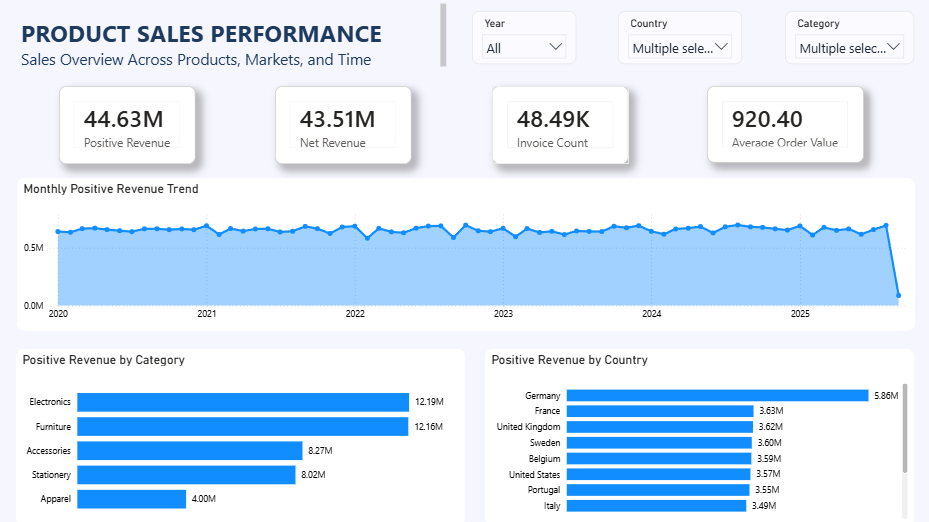

The dashboard page shown, as its layout file describes it:
{"tool":"powerbi","page":{"name":"Product Sales Performance","canvas":[1280,720],"ordinal":0},"visuals":[{"type":"cardVisual","fields":{"Data":["FactSales.Total Revenue"]},"box":[380.2,118.1,187.2,106.6],"z":0},{"type":"cardVisual","title":"Positive Revenue","fields":{"Data":["FactSales.Positive Revenue"]},"box":[85,118.1,187.2,106.6],"z":1000},{"type":"cardVisual","fields":{"Data":["FactSales.Average Order Value"]},"box":[972,118.1,214.6,105.1],"z":2000},{"type":"cardVisual","fields":{"Data":["FactSales.Invoice Count"]},"box":[678.2,118.1,187.2,106.6],"z":3000},{"type":"lineChart","title":"Monthly Positive Revenue Trend","fields":{"Y":["FactSales.Positive Revenue"],"Category":["DimDate.Date.Variation.Date Hierarchy.Year","DimDate.Date.Variation.Date Hierarchy.Quarter","DimDate.Date.Variation.Date Hierarchy.Month"]},"box":[27.4,243.4,1229.8,208.8],"z":4000},{"type":"clusteredBarChart","title":"Positive Revenue by Category","fields":{"Y":["FactSales.Positive Revenue"],"Category":["DimProduct.category"]},"box":[26.7,478.3,615,241.7],"z":5000},{"type":"clusteredBarChart","title":"Positive Revenue by Country","fields":{"Y":["FactSales.Positive Revenue"],"Category":["DimCustomer.country"]},"box":[668.3,478.3,588.3,241.7],"z":6000},{"type":"textbox","box":[27.4,0,593.3,105.1],"z":7000},{"type":"slicer","fields":{"Values":["DimDate.Year"]},"box":[651.2,14.6,143.3,73.3],"z":8000},{"type":"slicer","fields":{"Values":["DimCustomer.country"]},"box":[851,14.4,169.8,73.2],"z":9000},{"type":"slicer","fields":{"Values":["DimCustomer.category"]},"box":[1080,14.4,177.1,73.4],"z":10000}]}

Visuals, with their boxes in screenshot pixels (x1, y1, x2, y2), scaled from the page's 1280x720 canvas onto the 929x522 screenshot:
cardVisual - FactSales.Total Revenue: 276 86 412 163
"Positive Revenue" cardVisual: 62 86 198 163
cardVisual - FactSales.Average Order Value: 705 86 861 162
cardVisual - FactSales.Invoice Count: 492 86 628 163
"Monthly Positive Revenue Trend" lineChart: 20 176 912 328
"Positive Revenue by Category" clusteredBarChart: 19 347 466 521
"Positive Revenue by Country" clusteredBarChart: 485 347 912 521
textbox: 20 0 450 76
slicer - DimDate.Year: 473 11 577 64
slicer - DimCustomer.country: 618 10 741 64
slicer - DimCustomer.category: 784 10 912 64
